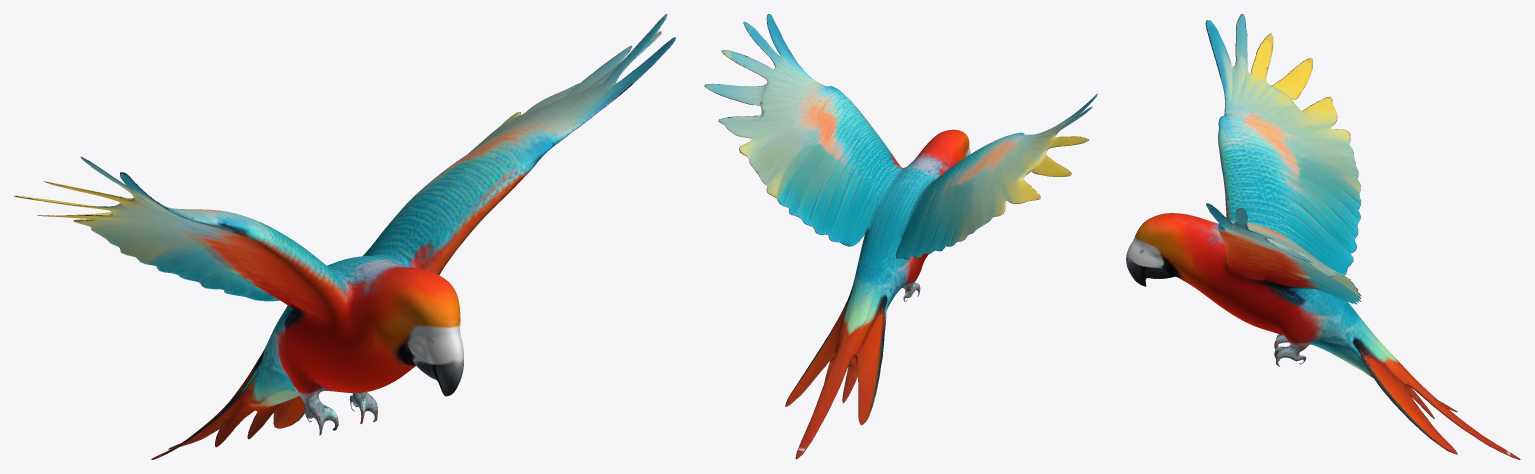
File: parrot_flying.glb
3 renders of one model, left to right at view 1: azimuth 30°, elevation 25°; view 2: azimuth 150°, elevation 25°; view 3: azimuth 270°, elevation 25°, orthographic. The views are drawn at different scales.
Visible parts, largest first — view 1: model; view 2: model; view 3: model.
Part boxes in pixels (box(x1,y1,x2,y2)): model: box(14, 14, 675, 459); model: box(704, 14, 1097, 459); model: box(1126, 14, 1520, 459).
Bounding box in the file's own units: 1.89 × 1.51 × 1.55.
1 material, 1 textured.
